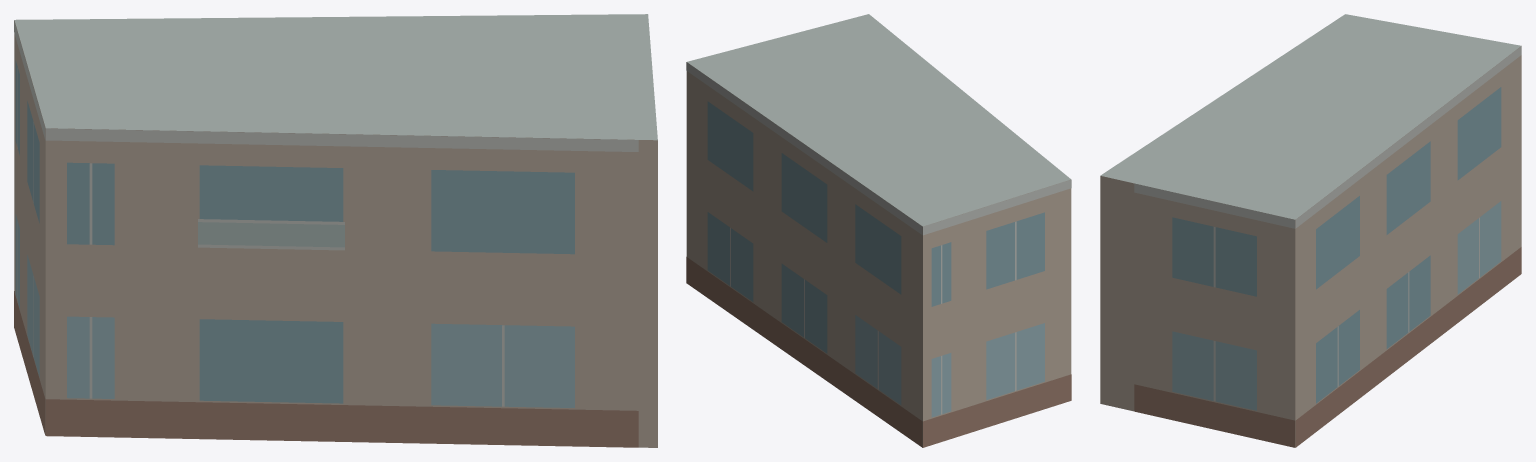
The model's file is survey-upis-32723859.glb.
3 views of the same model, side by side, from view 1: azimuth 30°, elevation 25°; view 2: azimuth 150°, elevation 25°; view 3: azimuth 270°, elevation 25° (orthographic). The views are drawn at different scales.
Visible parts, largest first — view 1: survey-upis-32723859.tmp; view 2: survey-upis-32723859.tmp; view 3: survey-upis-32723859.tmp.
Boxes of the visible parts, x1,y1,x2,y2 form: survey-upis-32723859.tmp: (14, 14, 657, 447); survey-upis-32723859.tmp: (686, 14, 1071, 447); survey-upis-32723859.tmp: (1100, 14, 1521, 447).
Size of the model in its own units: 11.81 by 6.1 by 10.22.
